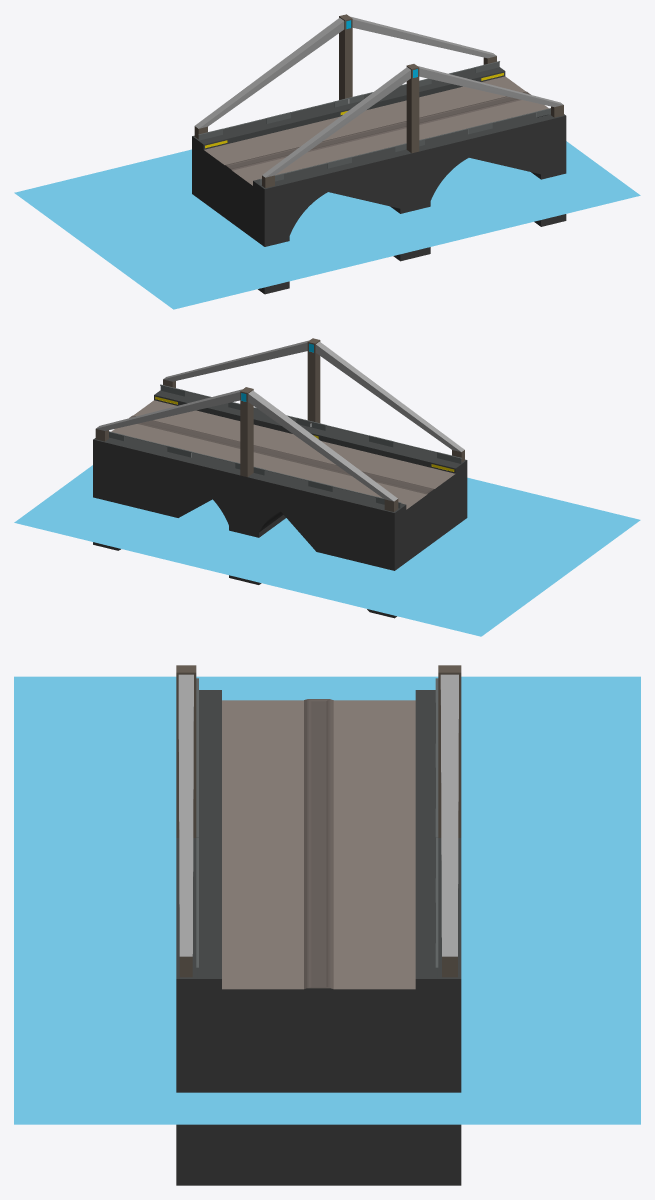
The model's file is bridge.obj.
The picture shows the model from 3 angles, top to bottom: view 1: azimuth 30°, elevation 25°; view 2: azimuth 150°, elevation 25°; view 3: azimuth 270°, elevation 25°; orthographic projection. The views are drawn at different scales.
Visible parts, largest first — view 1: Mesh2 Model, Mesh1 water_tex Model; view 2: Mesh2 Model, Mesh1 water_tex Model; view 3: Mesh1 water_tex Model, Mesh2 Model.
Part boxes in pixels (bbox=[...]): Mesh2 Model: bbox=[192, 14, 566, 294]; Mesh1 water_tex Model: bbox=[14, 141, 640, 309]; Mesh2 Model: bbox=[93, 338, 467, 618]; Mesh1 water_tex Model: bbox=[14, 465, 640, 636]; Mesh1 water_tex Model: bbox=[14, 676, 640, 1124]; Mesh2 Model: bbox=[176, 665, 461, 1185].
Bounding box in the file's own units: 92.99 × 36 × 55.
